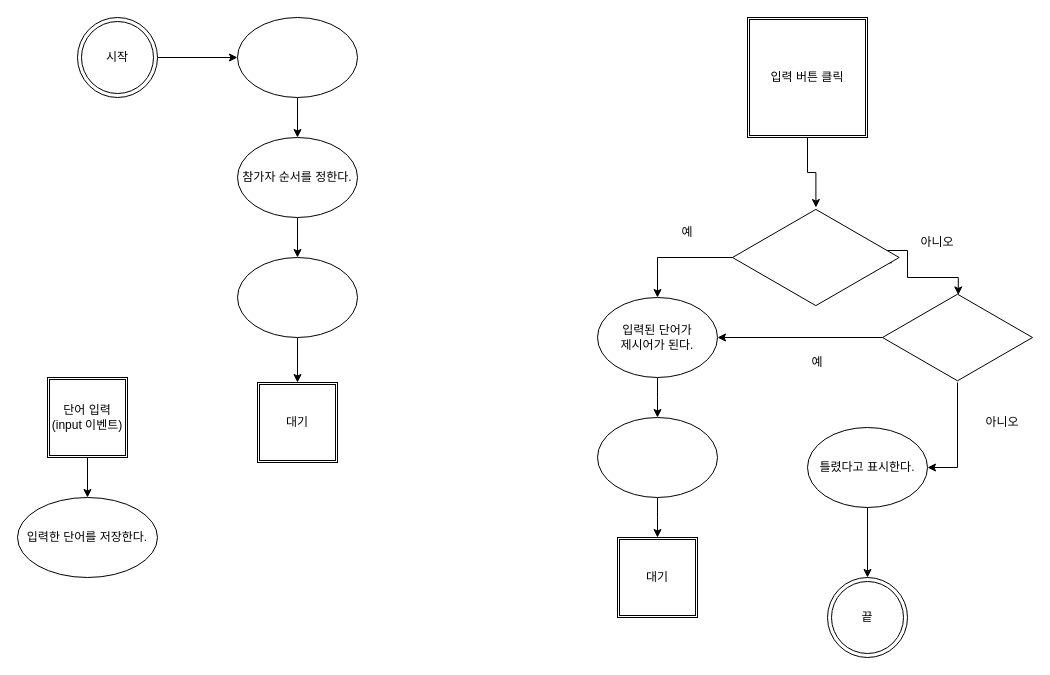
Some shapes in this 1050 by 675 pixel diagram are drawn without their labels. The centre of each missing label's shape, as x and y in pixels:
다음 사람에게 순서를 넘긴다.: the point at 657,457
몇 명이 참여할지 선택한다.: the point at 297,57
입력한 단어가 올바른가?: the point at 957,337
제시어를 저장할 변수를 만든다.: the point at 297,297
첫 번째 참가자인가? (제시어가 비어있는가?): the point at 815,257
